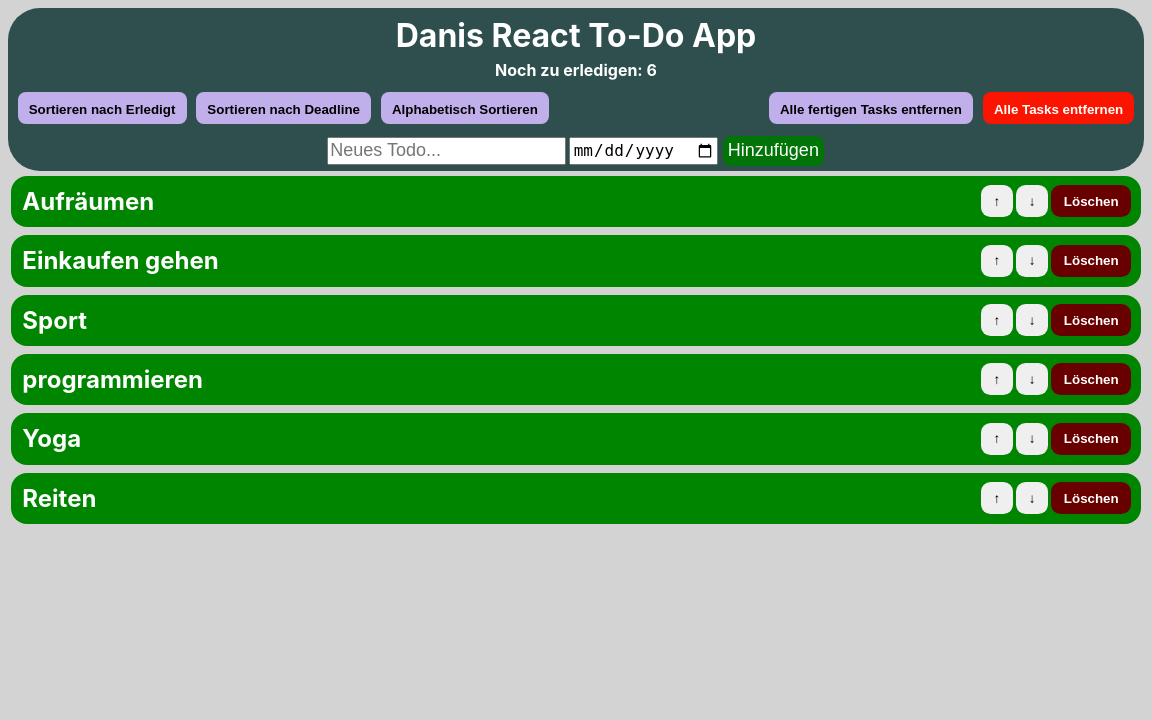
Scenario: Input of a single task with a deadline via user interaction. Check if it gets displayed.
Type "Lesen" into the field with test id "taskNameInput".
click(446, 151); type("Lesen")  # box [327,137,566,165]
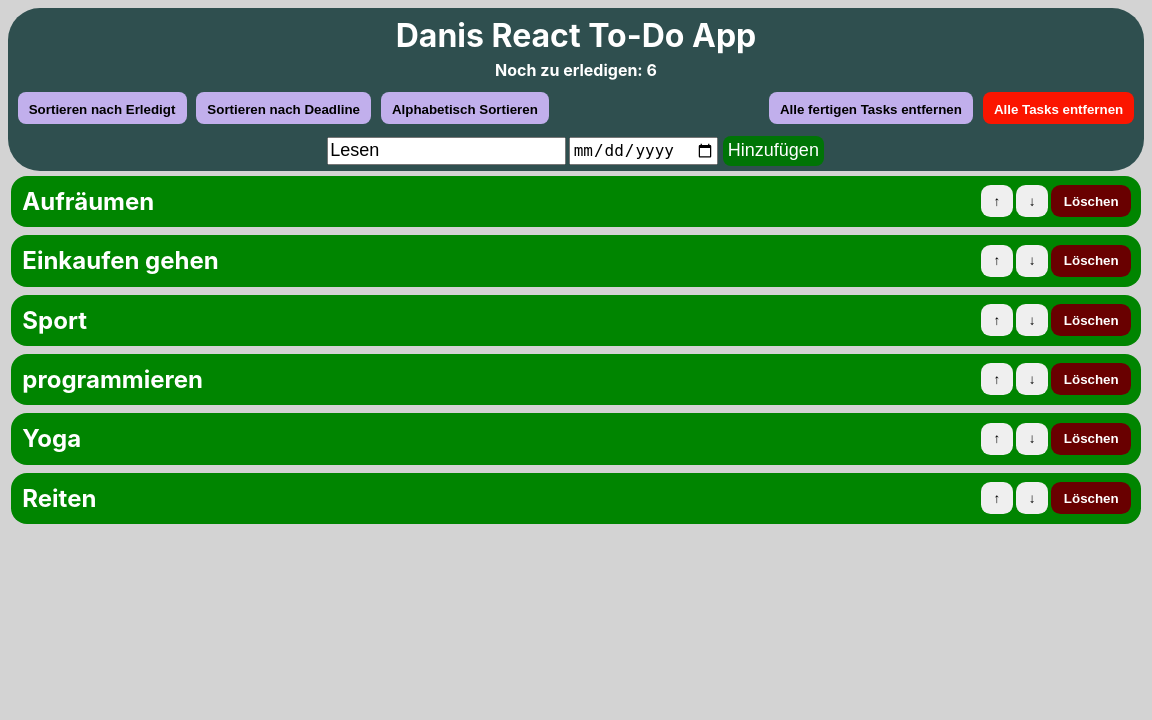
Type "2022-06-08" into the date field with test id "dateInput".
click(644, 151); type("2022-06-08")  # box [569,137,718,165]
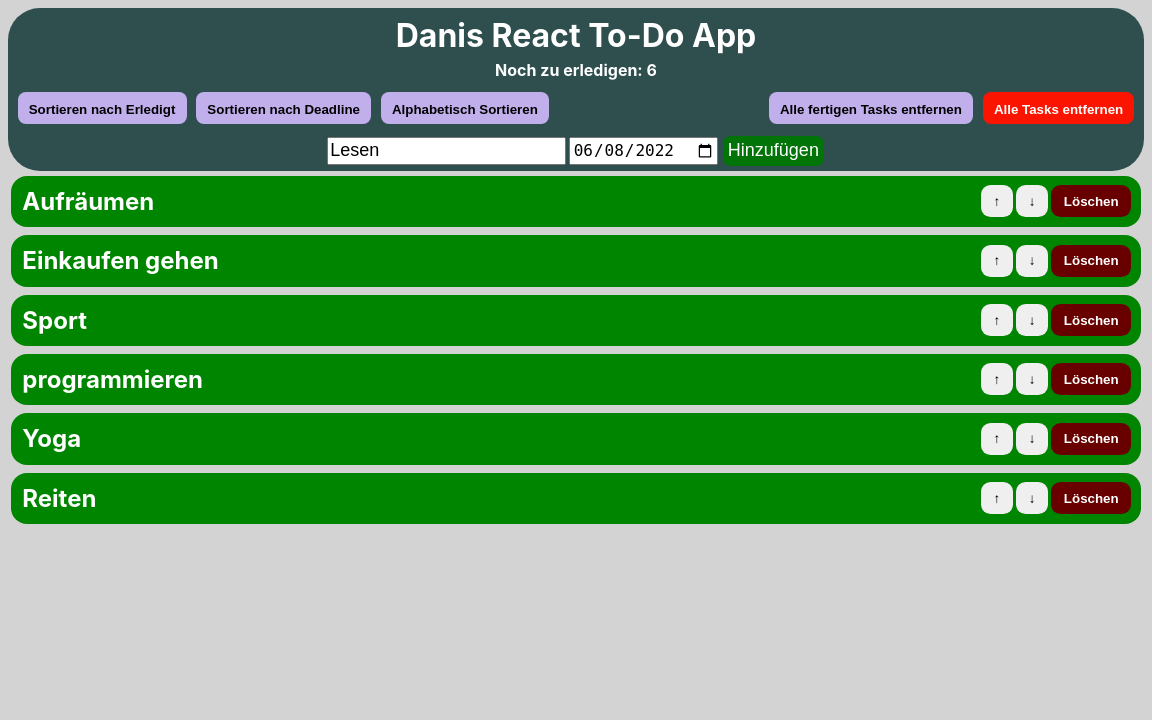
Click the button with test id "submitButton".
click(773, 151)  # box [723,136,824,166]
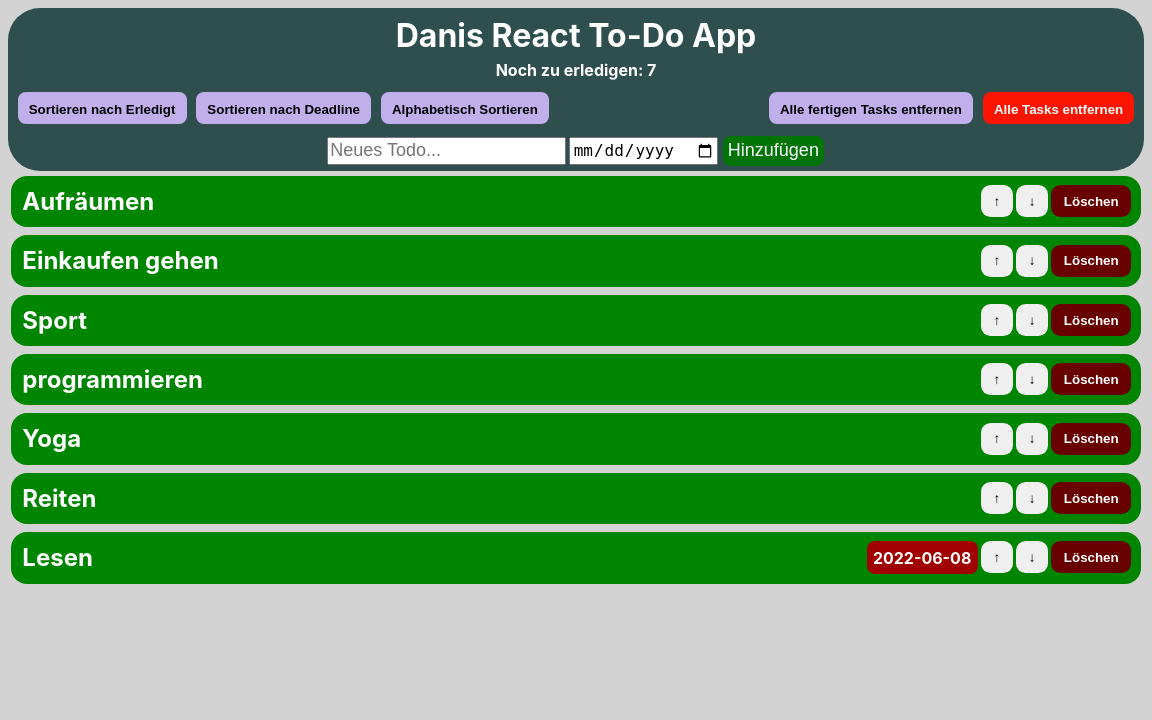
Expected: the heading "Lesen" is shown, [21,542,94,574]
Expected: the text "2022-06-08" is shown, [866,542,978,574]
